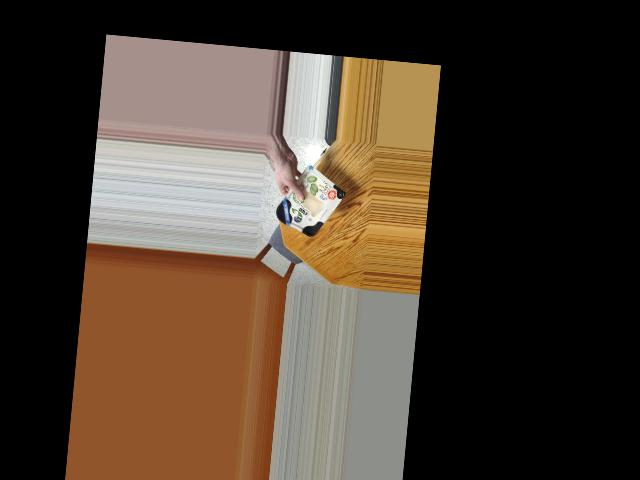cheese: (273, 171, 341, 243)
